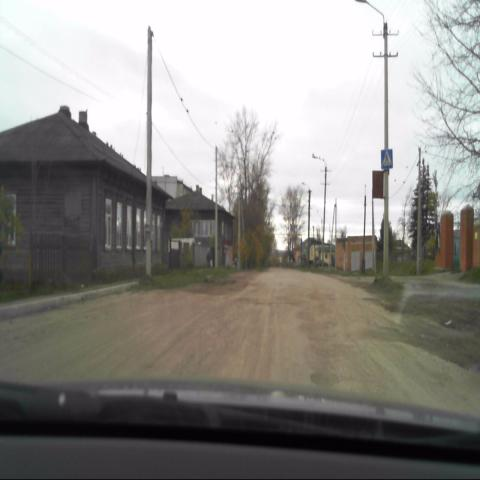5_19_1: (380, 149, 392, 169)
